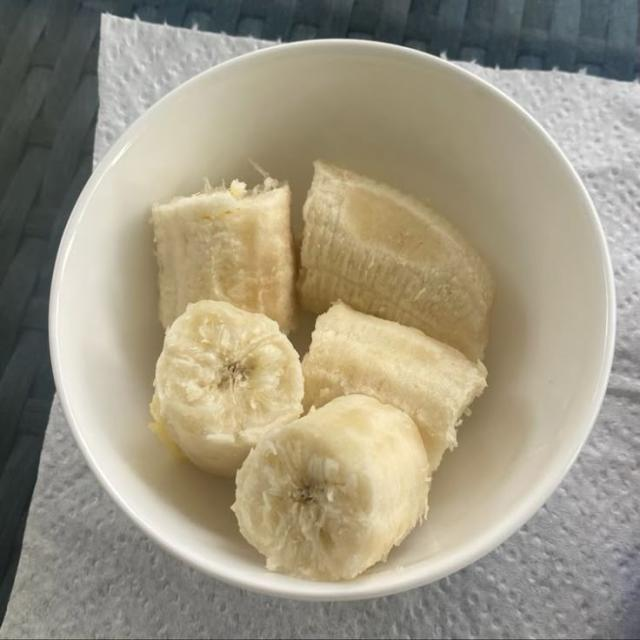banana slice: (299, 161, 493, 360), (234, 396, 429, 580), (303, 304, 486, 471), (151, 301, 303, 475), (152, 178, 296, 333)
